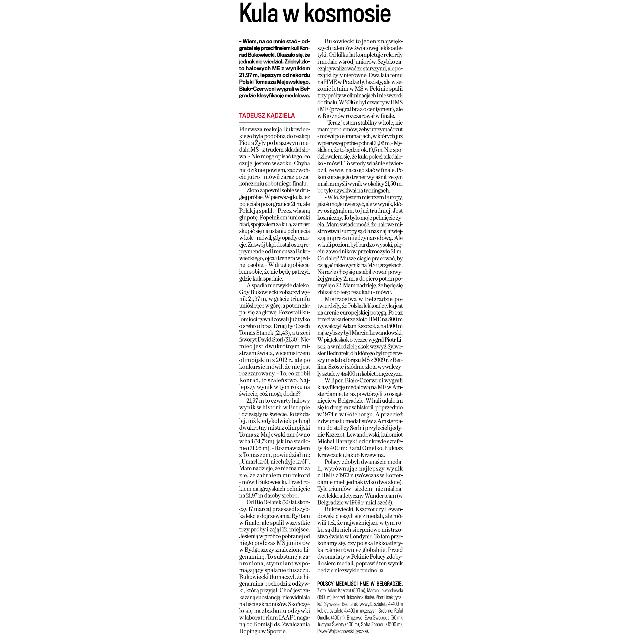author: (239, 110, 297, 120)
body: (315, 36, 405, 574), (238, 125, 312, 635)
lead: (237, 38, 313, 100)
title: (239, 0, 395, 28)
